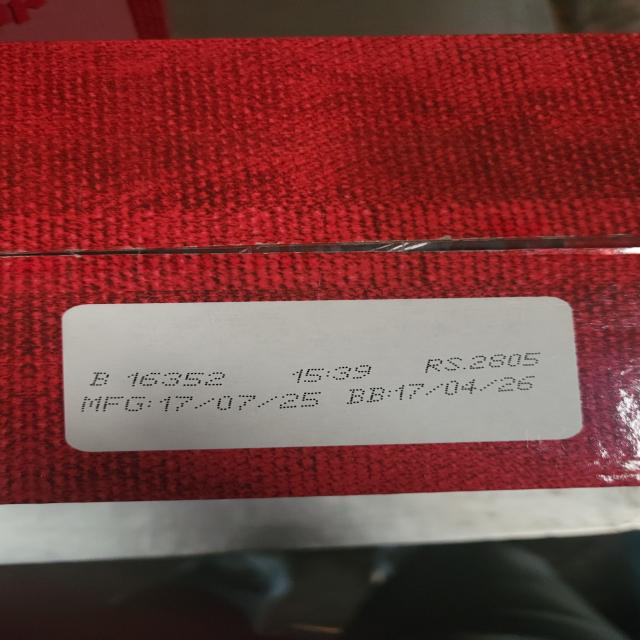BB: (347, 378, 554, 404)
Batch: (89, 370, 229, 387)
MFG: (81, 390, 323, 413)
RS: (424, 352, 546, 372)
TimeStamp: (293, 365, 376, 383)
